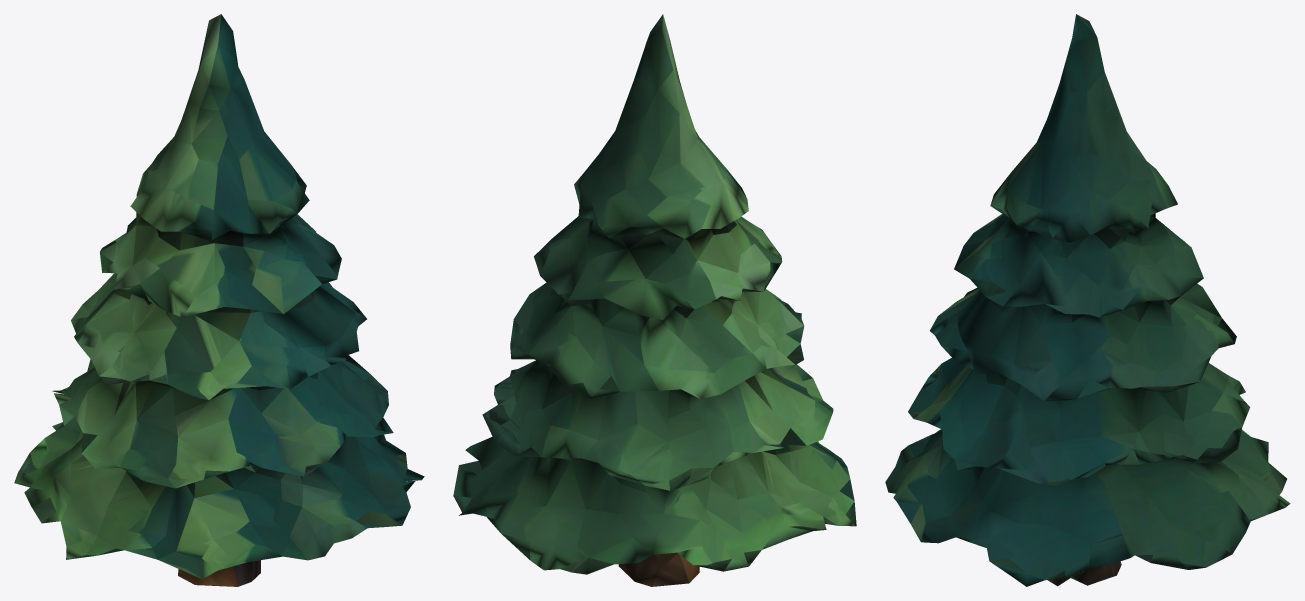
File: tree-sapin-meshy-lod5.glb
The picture shows the model from 3 angles, left to right: view 1: azimuth 30°, elevation 25°; view 2: azimuth 150°, elevation 25°; view 3: azimuth 270°, elevation 25°; orthographic projection.
Parts seen in each view (by area): view 1: Mesh_0.004; view 2: Mesh_0.004; view 3: Mesh_0.004.
Part boxes in pixels (<box>): Mesh_0.004: <box>14,14,424,586</box>; Mesh_0.004: <box>453,14,856,586</box>; Mesh_0.004: <box>885,14,1290,586</box>.
Size of the model in its own units: 7.9 by 11.93 by 7.85.
1 material, 1 textured.
